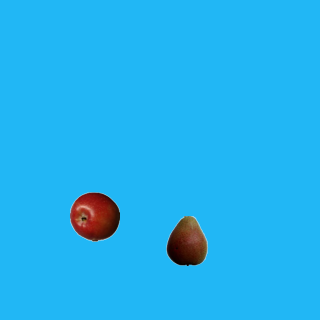Apple Braeburn: (69, 191, 119, 241)
Pear Forelle: (161, 215, 211, 265)
